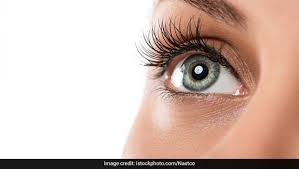pupil: (179, 55, 220, 90)
